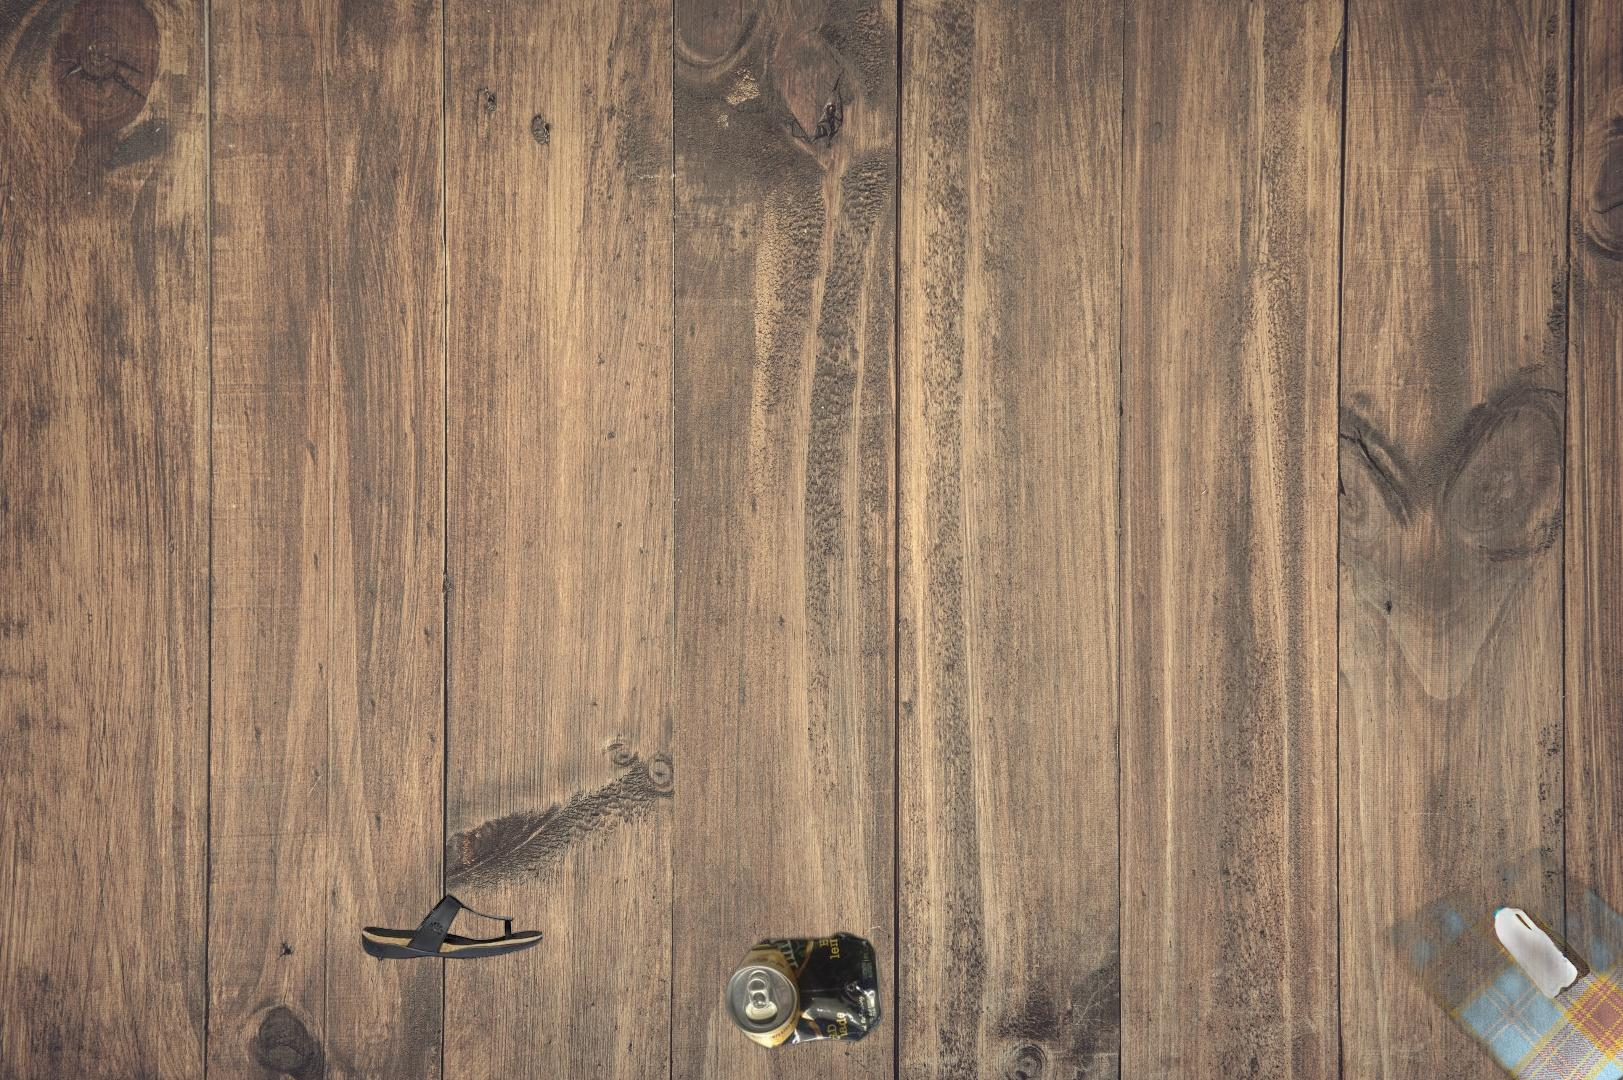metal-cans: (721, 931, 890, 1051)
plastic-bottles: (1265, 611, 1623, 1080)
shoes: (359, 890, 546, 962)
